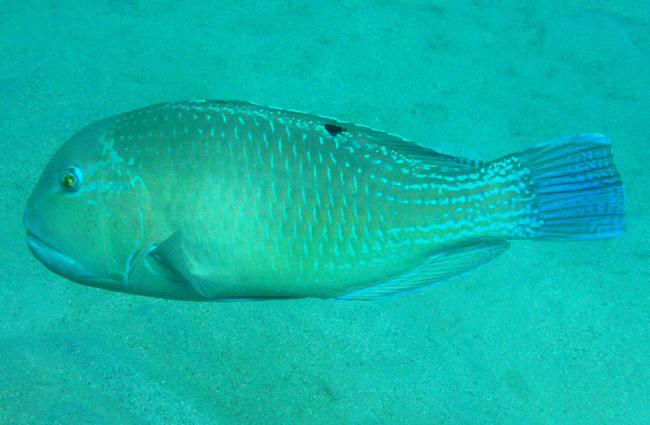fish: (25, 100, 629, 303)
